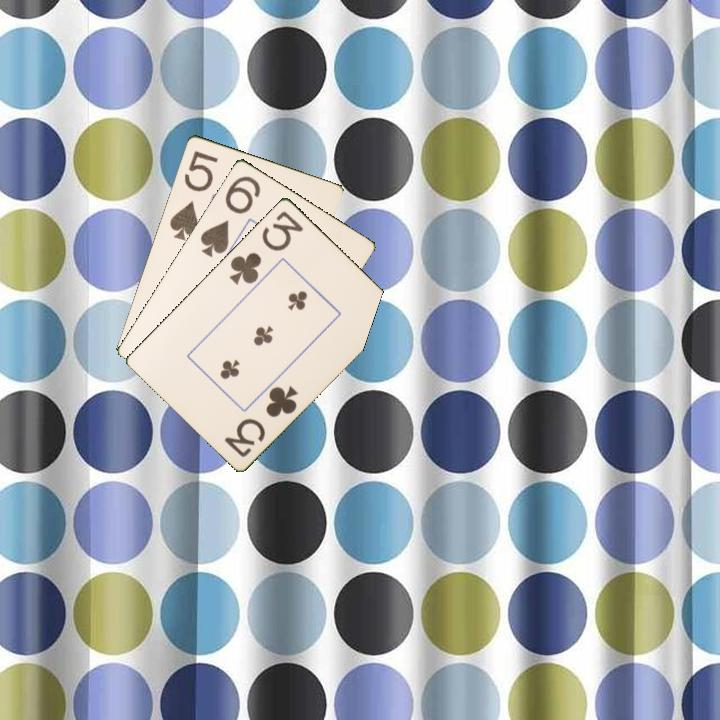3c: (225, 207, 307, 287), (220, 381, 301, 460)
5s: (166, 147, 221, 243)
6s: (197, 172, 264, 260)
